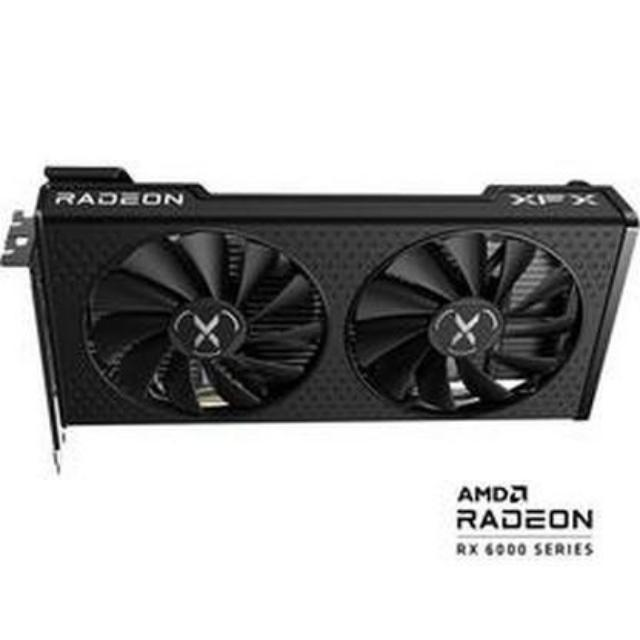GPU: (17, 139, 634, 447)
